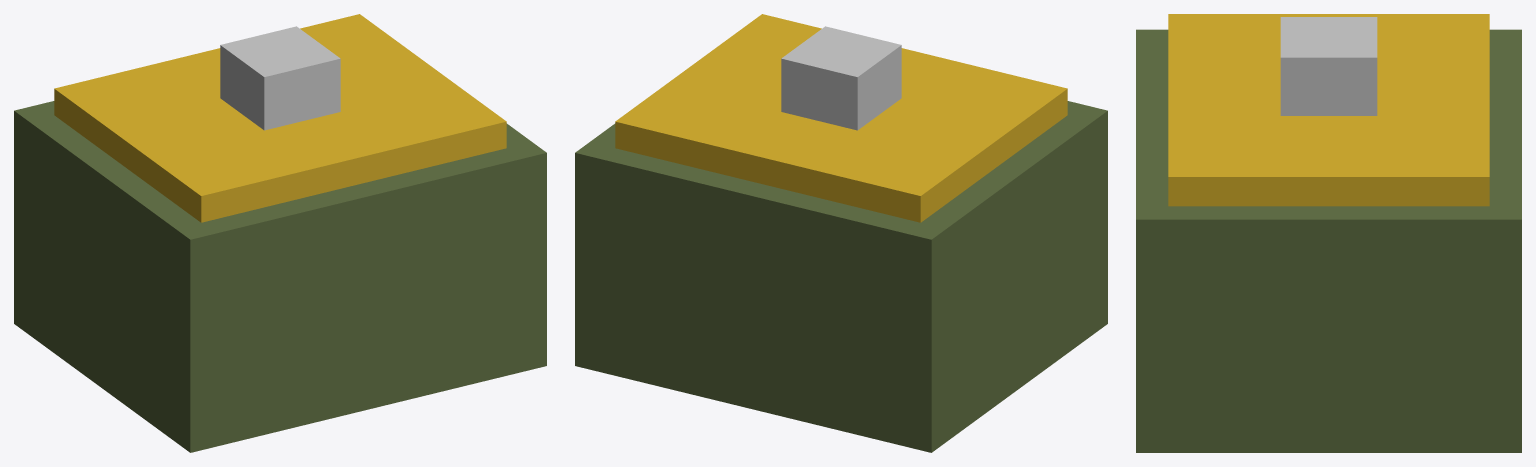
The model's file is reliability_package.obj.
3 views of the same model, side by side, from view 1: azimuth 30°, elevation 25°; view 2: azimuth 150°, elevation 25°; view 3: azimuth 270°, elevation 25° (orthographic). The views are drawn at different scales.
Parts seen in each view (by area): view 1: reliability_package; view 2: reliability_package; view 3: reliability_package.
Part boxes in pixels (box(x1,y1,x2,y2)): reliability_package: box(14, 14, 546, 452); reliability_package: box(575, 14, 1107, 452); reliability_package: box(1136, 14, 1521, 452).
Size of the model in its own units: 0.28 by 0.22 by 0.24.
